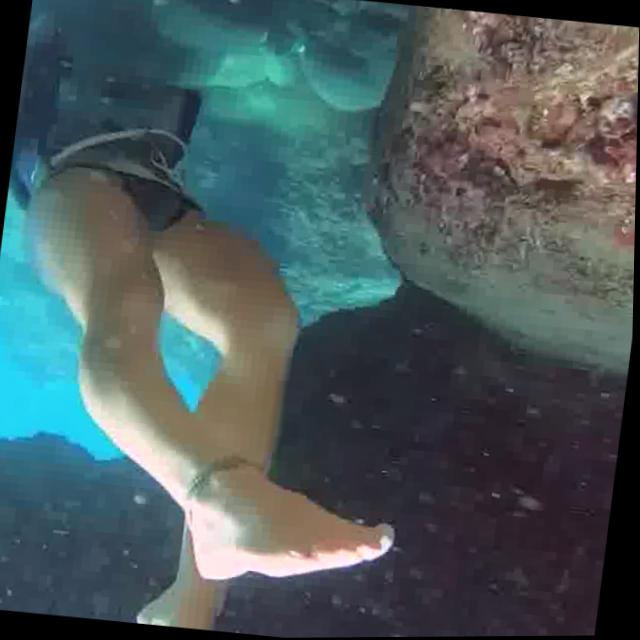human: (0, 30, 461, 640)
